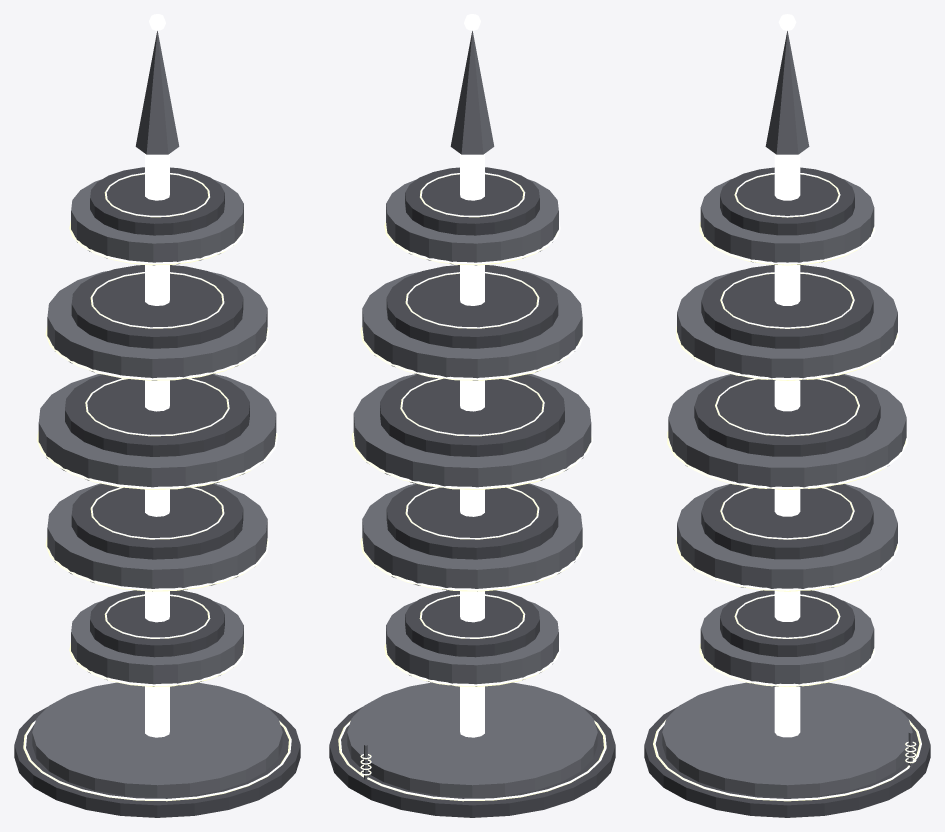
File: zone_high_5_t4.glb
3 views of the same model, side by side, from view 1: azimuth 30°, elevation 25°; view 2: azimuth 150°, elevation 25°; view 3: azimuth 270°, elevation 25° (orthographic).
Parts seen in each view (by area): view 1: zone_high_5_t4, detail; view 2: zone_high_5_t4, detail; view 3: zone_high_5_t4, detail.
Boxes of the visible parts, x1,y1,x2,y2 form: zone_high_5_t4: [14, 14, 300, 817]; detail: [85, 172, 229, 638]; zone_high_5_t4: [329, 14, 615, 817]; detail: [360, 172, 544, 779]; zone_high_5_t4: [644, 14, 930, 817]; detail: [715, 173, 916, 767].
Bounding box in the file's own units: 28.8 × 82.48 × 28.8.
